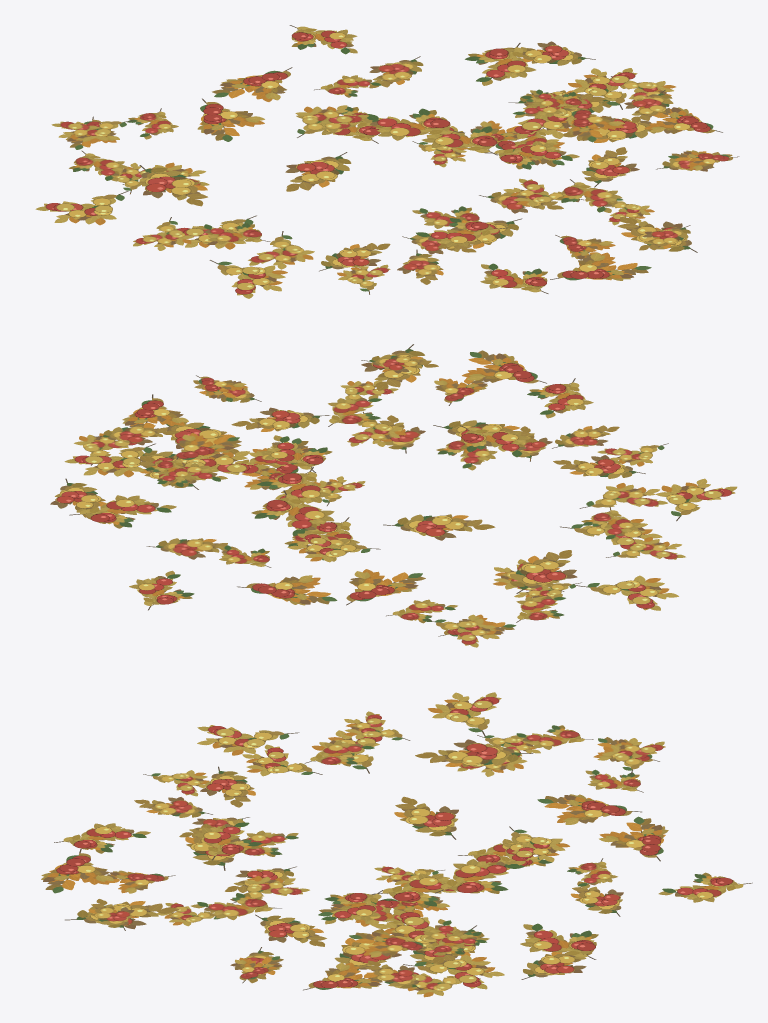
File: pommier_jeune_a.fbx
The picture shows the model from 3 angles, top to bottom: view 1: azimuth 30°, elevation 25°; view 2: azimuth 150°, elevation 25°; view 3: azimuth 270°, elevation 25°; orthographic projection. The views are drawn at different scales.
Parts seen in each view (by area): view 1: pommier_jeune_a_feuilles_sol; view 2: pommier_jeune_a_feuilles_sol; view 3: pommier_jeune_a_feuilles_sol.
Boxes of the visible parts, box(x1,y1,x2,y2) form: pommier_jeune_a_feuilles_sol: box(35, 25, 739, 298); pommier_jeune_a_feuilles_sol: box(50, 344, 737, 647); pommier_jeune_a_feuilles_sol: box(41, 692, 752, 997).
Size of what is drawn, in the model's own units: 2.81 by 0.00592 by 2.7.
